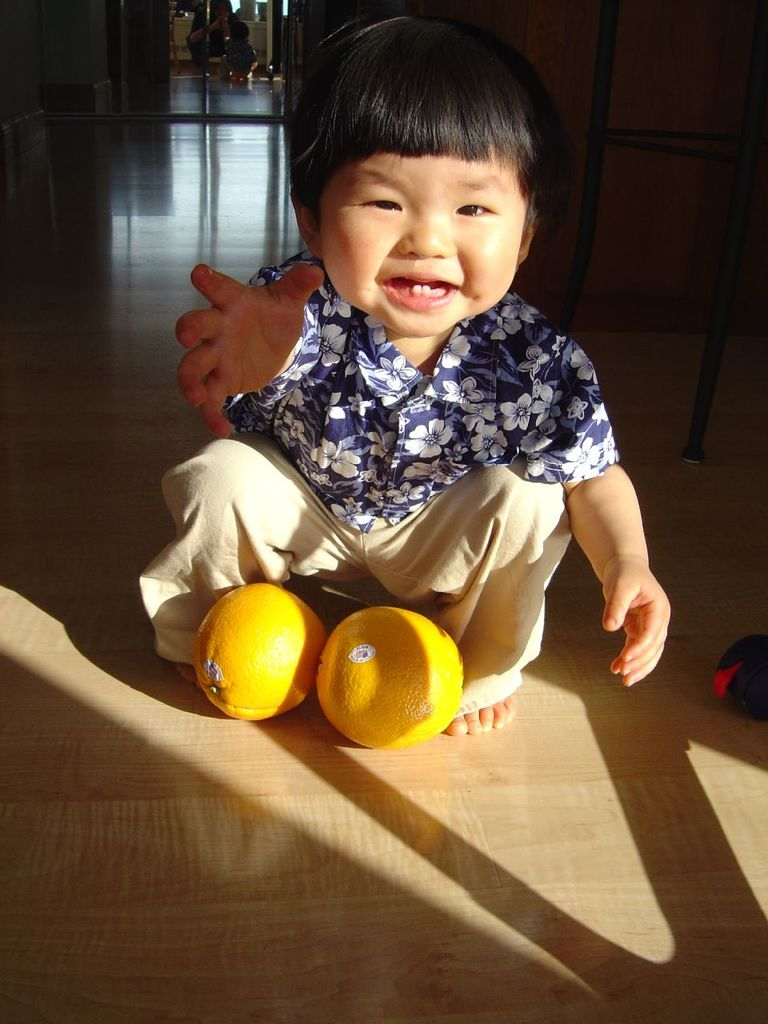Ripe: (312, 607, 461, 736), (185, 574, 317, 711)
